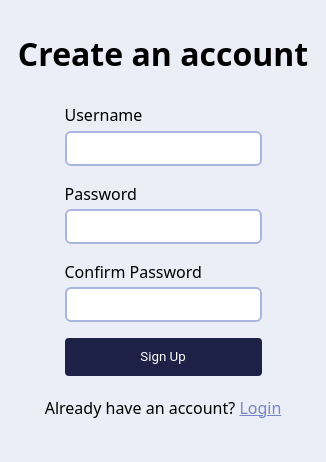
Test: CreateUserView › shows error if username is empty
Click the button "Sign Up" at x=163, y=357, box [64,338,262,376]
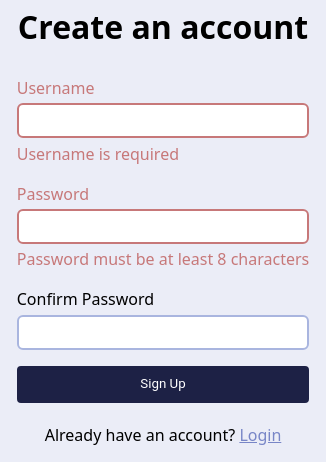
expect the text "Username is required" is shown: met, box [17,143,179,165]
